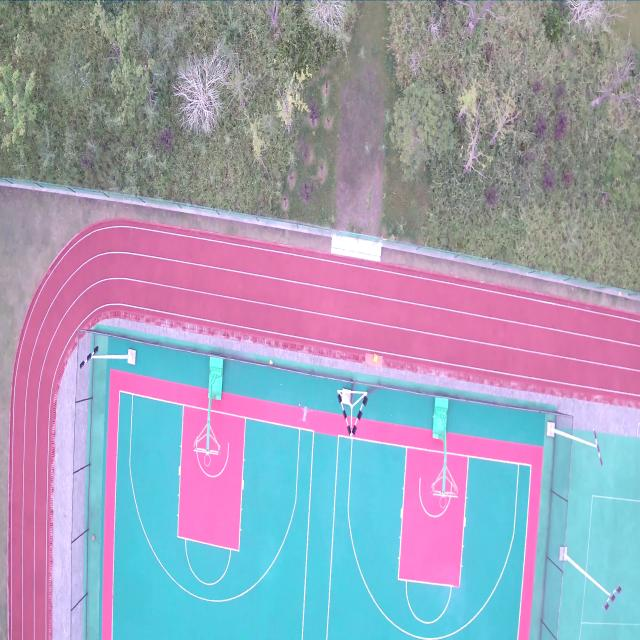UAV: (298, 403, 313, 428)
